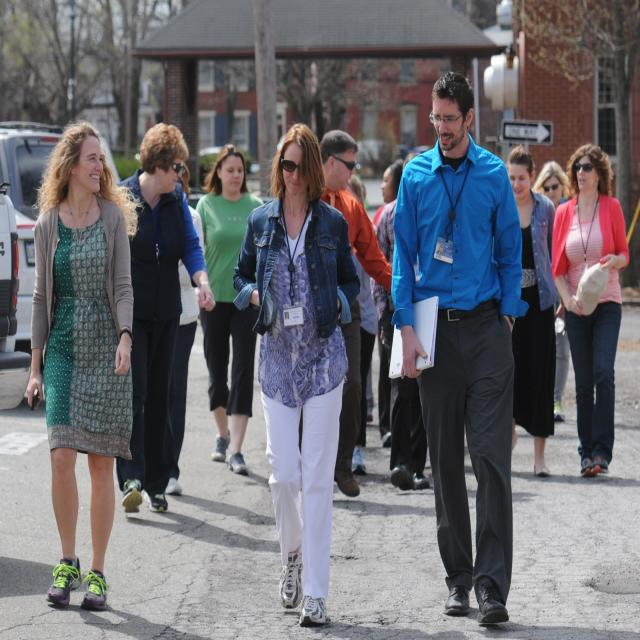body: (385, 66, 533, 631), (229, 119, 363, 634), (22, 121, 139, 614), (112, 120, 216, 518), (317, 128, 395, 498), (549, 139, 632, 481), (196, 143, 266, 475), (504, 145, 560, 477), (386, 146, 436, 492), (370, 151, 423, 450), (162, 158, 207, 497), (532, 159, 572, 424), (348, 173, 380, 475)
